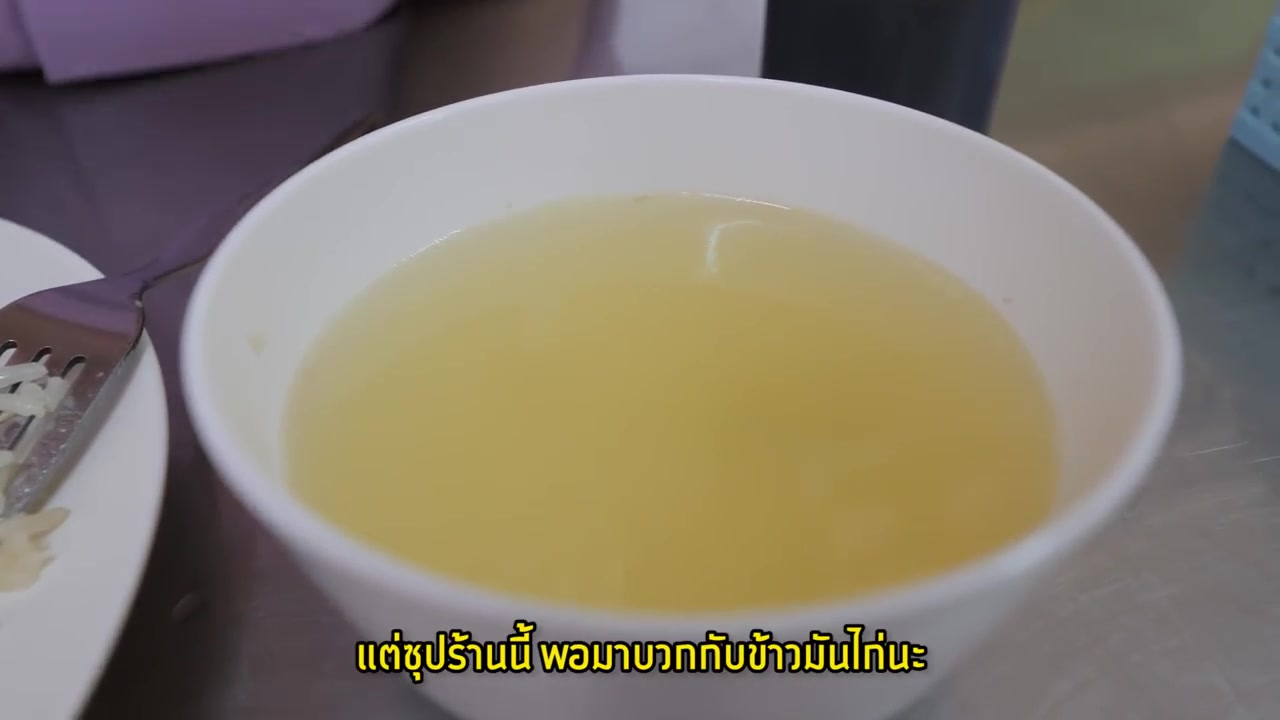text-label: (353, 619, 931, 683)
